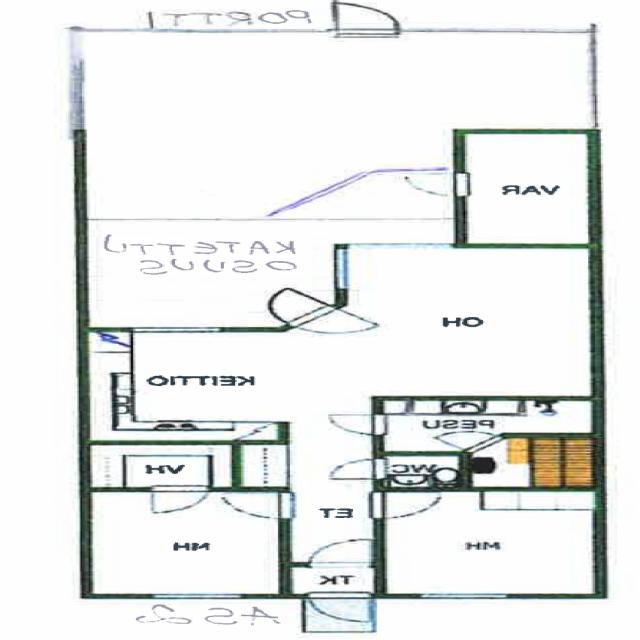door: (243, 288, 340, 328), (287, 306, 384, 346), (433, 422, 507, 453), (333, 2, 398, 34), (215, 494, 289, 520), (371, 494, 444, 520), (306, 594, 368, 624), (302, 538, 364, 568), (151, 487, 207, 516), (398, 174, 467, 196), (319, 458, 383, 480), (321, 415, 383, 436)
